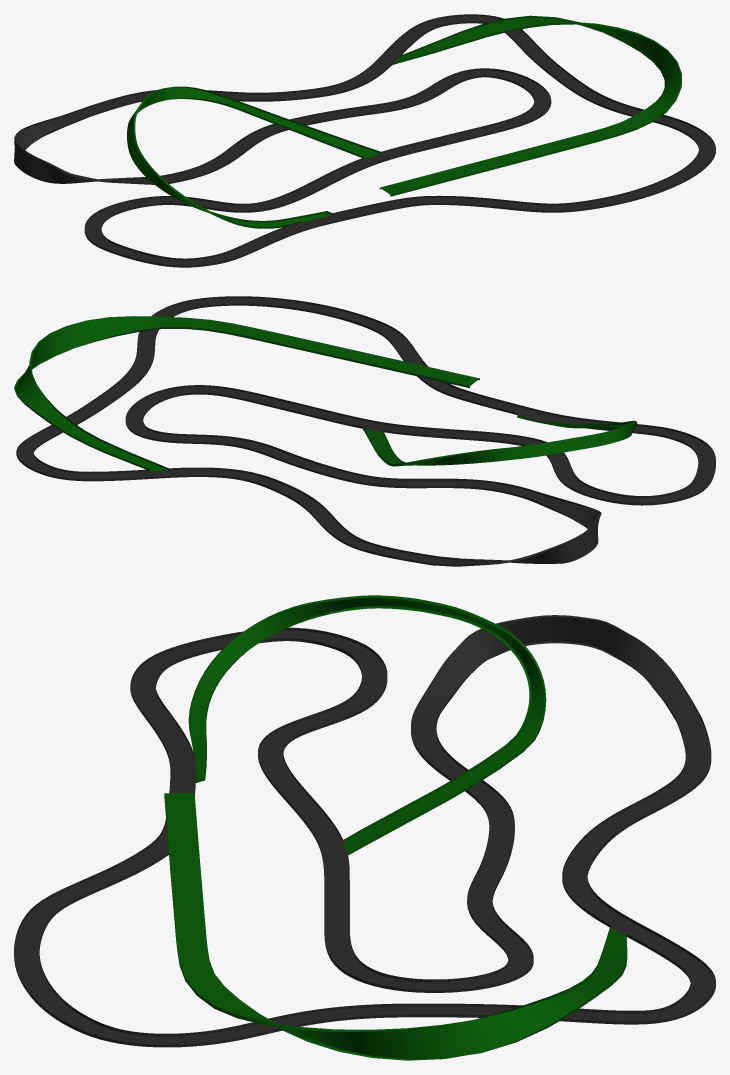
The model's file is Track01_Complete.fbx.
3 renders of one model, top to bottom at view 1: azimuth 30°, elevation 25°; view 2: azimuth 150°, elevation 25°; view 3: azimuth 270°, elevation 25°, orthographic. The views are drawn at different scales.
Parts seen in each view (by area): view 1: MainTrack, Split_002, Split_001; view 2: MainTrack, Split_002, Split_001; view 3: MainTrack, Split_002, Split_001.
Boxes of the visible parts, <box> form: MainTrack: <box>14,14,715,267</box>; Split_002: <box>379,15,681,196</box>; Split_001: <box>127,86,381,228</box>; MainTrack: <box>16,296,715,566</box>; Split_002: <box>14,316,479,471</box>; Split_001: <box>362,414,637,466</box>; MainTrack: <box>14,615,715,1047</box>; Split_002: <box>164,793,627,1060</box>; Split_001: <box>188,595,546,855</box>.
Size of the model in its own units: 14823 by 1499 by 9993.
